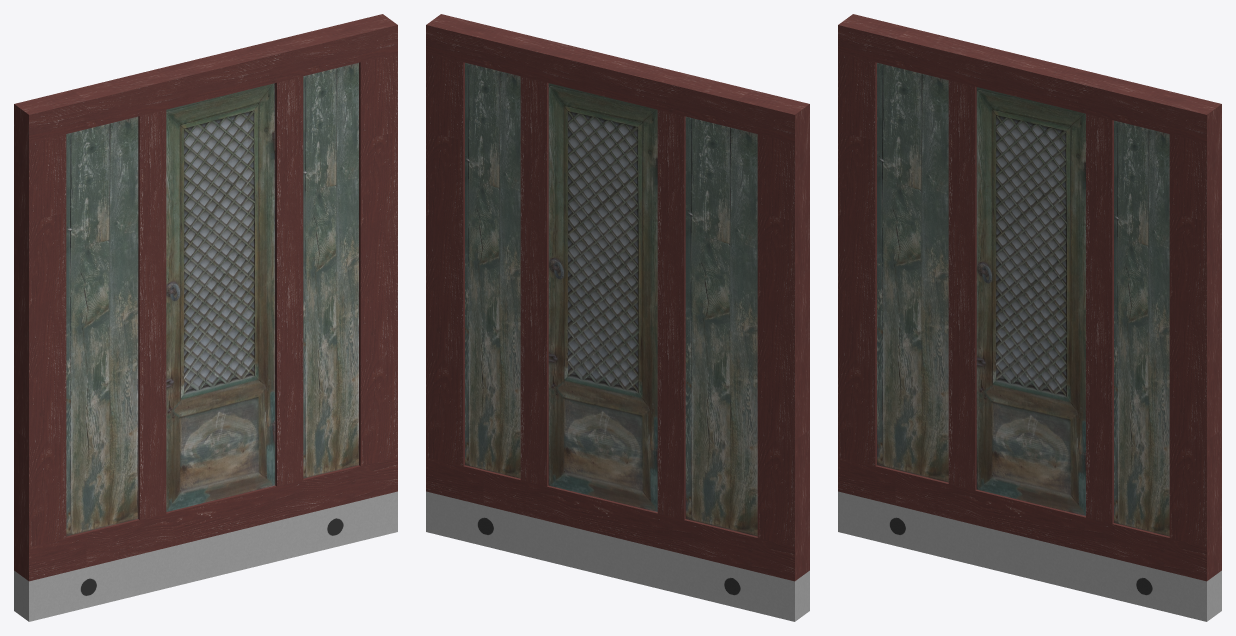
Rendered from SM_Geumsan_Mi_Wall_C.fbx.
3 renders of one model, left to right at view 1: azimuth 30°, elevation 25°; view 2: azimuth 150°, elevation 25°; view 3: azimuth 330°, elevation 25°, orthographic.
Visible parts, largest first — view 1: SM_Geumsan_Mi_Wall_C; view 2: SM_Geumsan_Mi_Wall_C; view 3: SM_Geumsan_Mi_Wall_C.
Boxes of the visible parts, <box> form: SM_Geumsan_Mi_Wall_C: <box>14,14,397,621</box>; SM_Geumsan_Mi_Wall_C: <box>426,14,809,621</box>; SM_Geumsan_Mi_Wall_C: <box>838,14,1221,621</box>.
Bounding box in the file's own units: 284 × 373 × 20.
